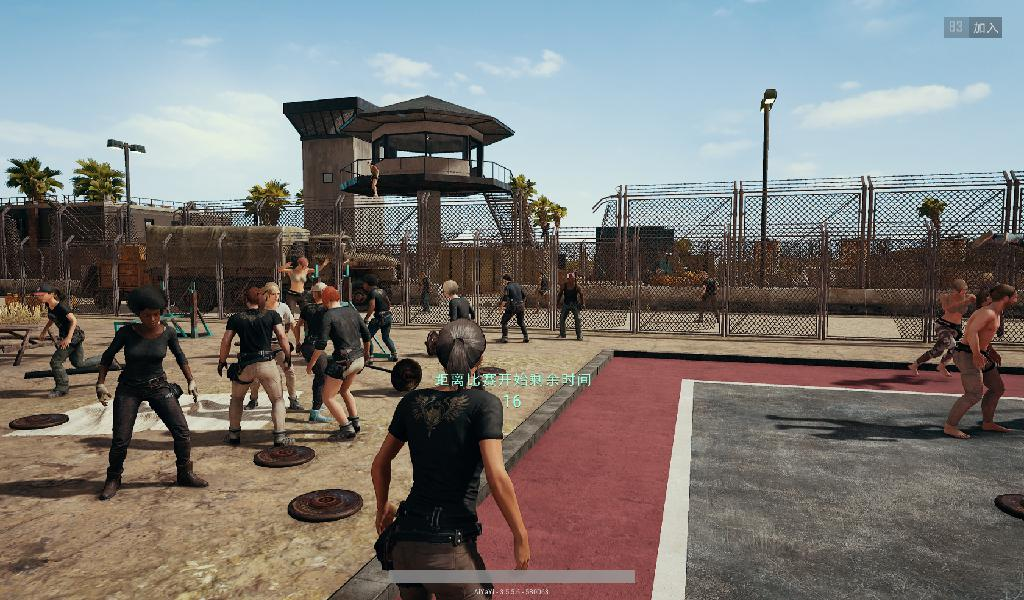Target Person: (371, 320, 531, 600), (94, 286, 210, 504), (219, 287, 290, 450), (30, 281, 122, 400), (952, 285, 1017, 442), (308, 286, 371, 445), (244, 279, 304, 415), (296, 281, 341, 426), (909, 279, 976, 376), (279, 258, 321, 363), (356, 276, 402, 365), (551, 268, 588, 344), (496, 270, 529, 346), (695, 268, 723, 330), (531, 269, 554, 323), (416, 269, 433, 320)
